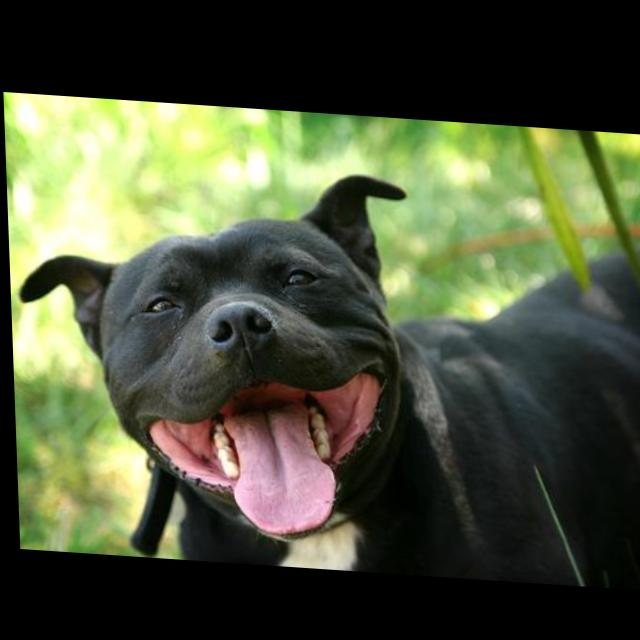amstaff: (12, 149, 640, 583)
